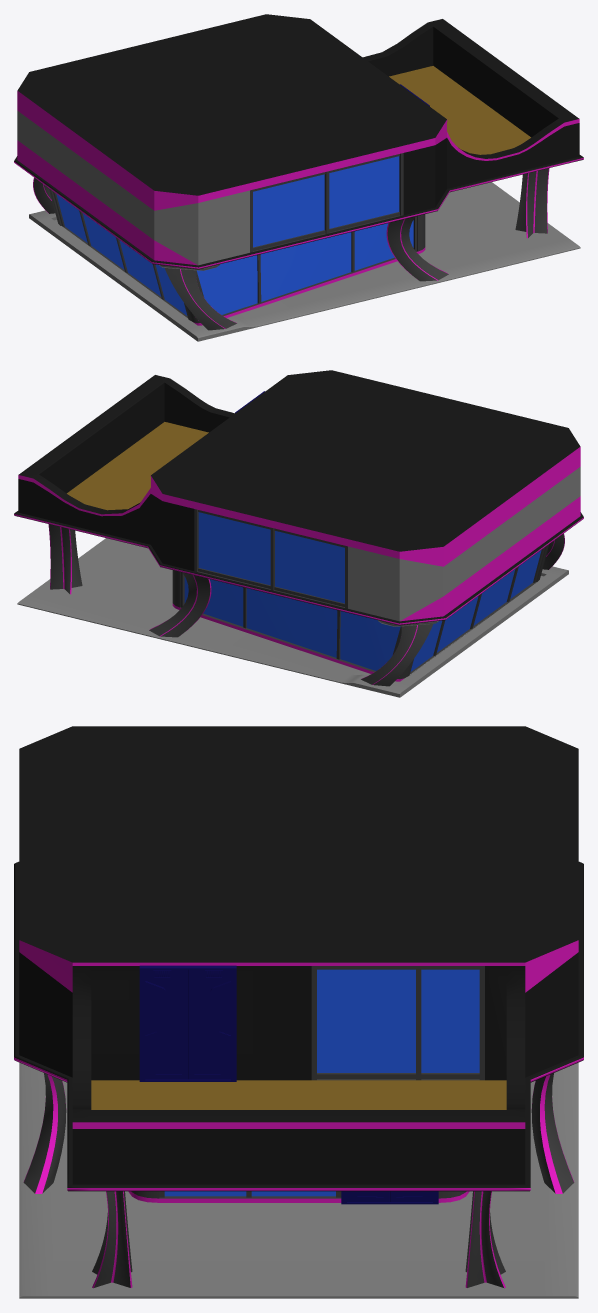
Rendered from SM_Building_Base_MK6.fbx.
3 views of the same model, one above another, from view 1: azimuth 30°, elevation 25°; view 2: azimuth 150°, elevation 25°; view 3: azimuth 270°, elevation 25° (orthographic). The views are drawn at different scales.
Visible parts, largest first — view 1: SM_Building_Base_MK6; view 2: SM_Building_Base_MK6; view 3: SM_Building_Base_MK6.
Part boxes in pixels (x1=…): SM_Building_Base_MK6: x1=14, y1=14, x2=583, y2=341; SM_Building_Base_MK6: x1=14, y1=370, x2=583, y2=697; SM_Building_Base_MK6: x1=14, y1=726, x2=583, y2=1298.
Size of the model in its own units: 1545 by 500 by 1070.
